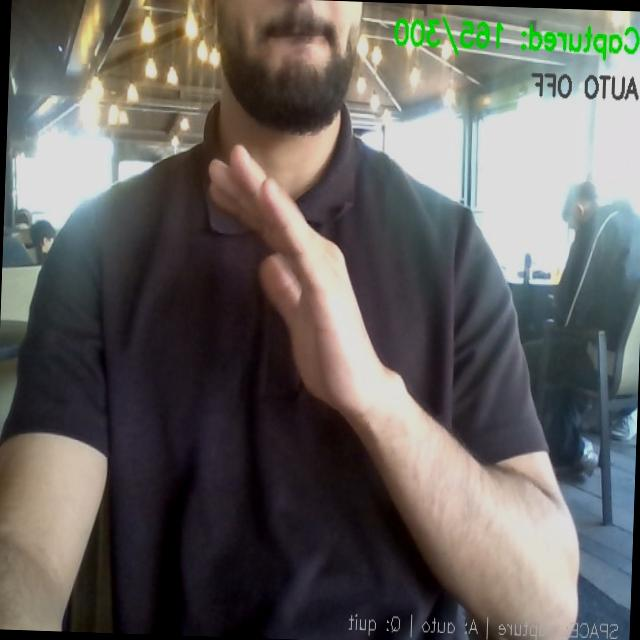Hand: (209, 145, 388, 419)
